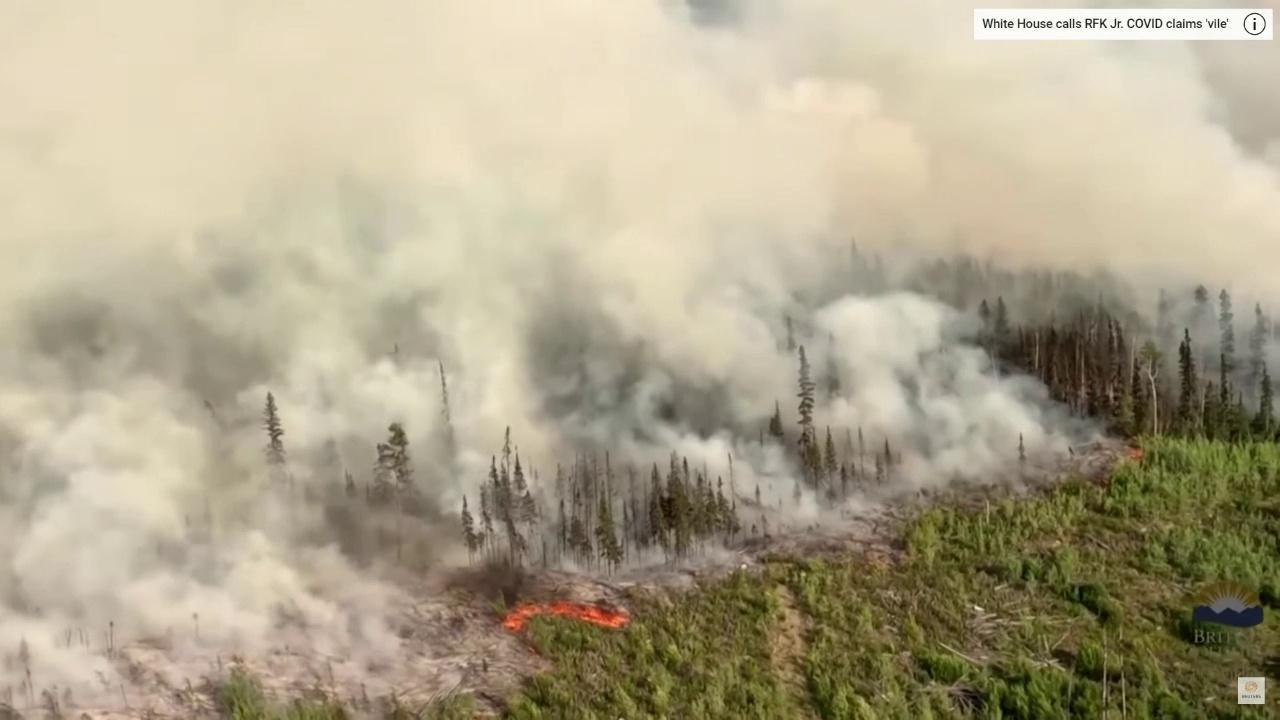fire: (496, 602, 633, 633), (1122, 444, 1148, 461)
smoke: (0, 0, 1280, 720)
